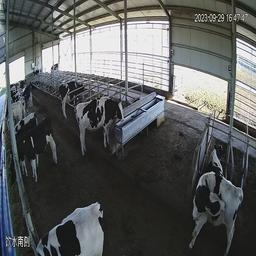cow: (174, 171, 249, 251), (20, 191, 113, 254), (73, 95, 125, 158), (12, 116, 59, 184), (55, 79, 85, 119), (8, 108, 37, 136), (206, 136, 226, 172), (3, 96, 24, 118), (11, 86, 33, 105), (7, 78, 23, 93)
